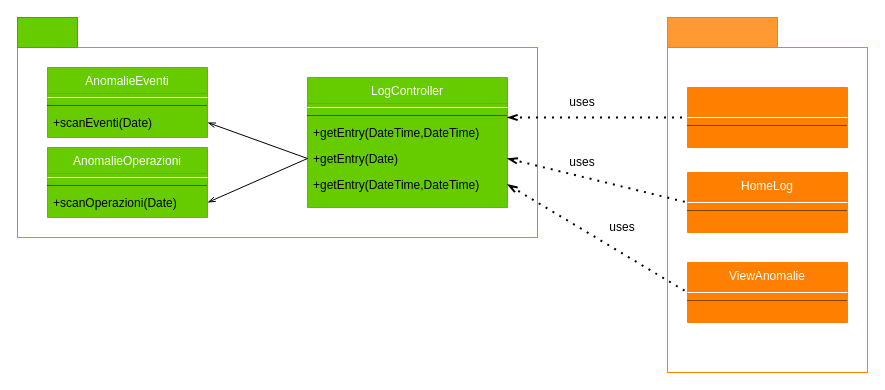
This 885x390 diagram has some shape labels left out. Each missing label, with the centre of its shape:
InterfacciaLog: the point at 722,32
Log: the point at 47,32
ViewLog: the point at 767,117
